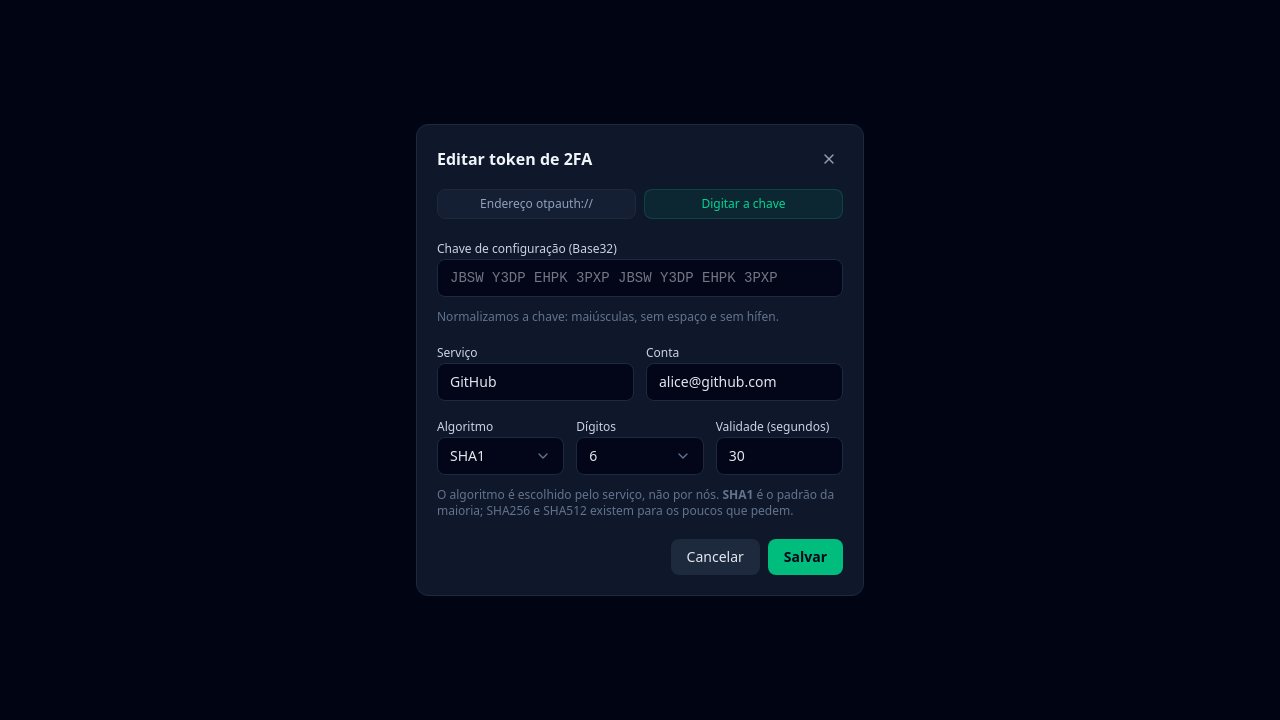
tela do verificador 2FA › valida campos editados e informa falha ao salvar manualmente
Replace the text in the field labelled "Serviço" with "Discord": coordinates (536, 382) [437, 363, 634, 401]
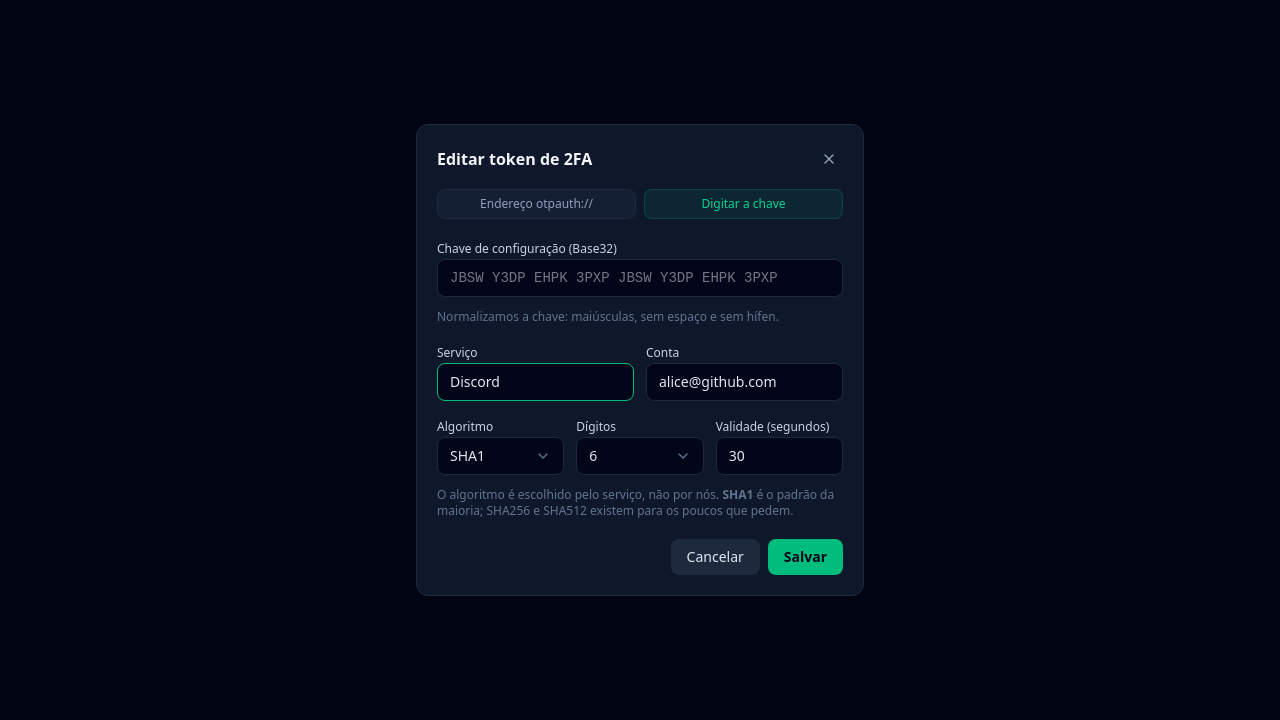
Replace the text in the field labelled "Conta" with "morgan#4321": coordinates (744, 382) [646, 363, 843, 401]
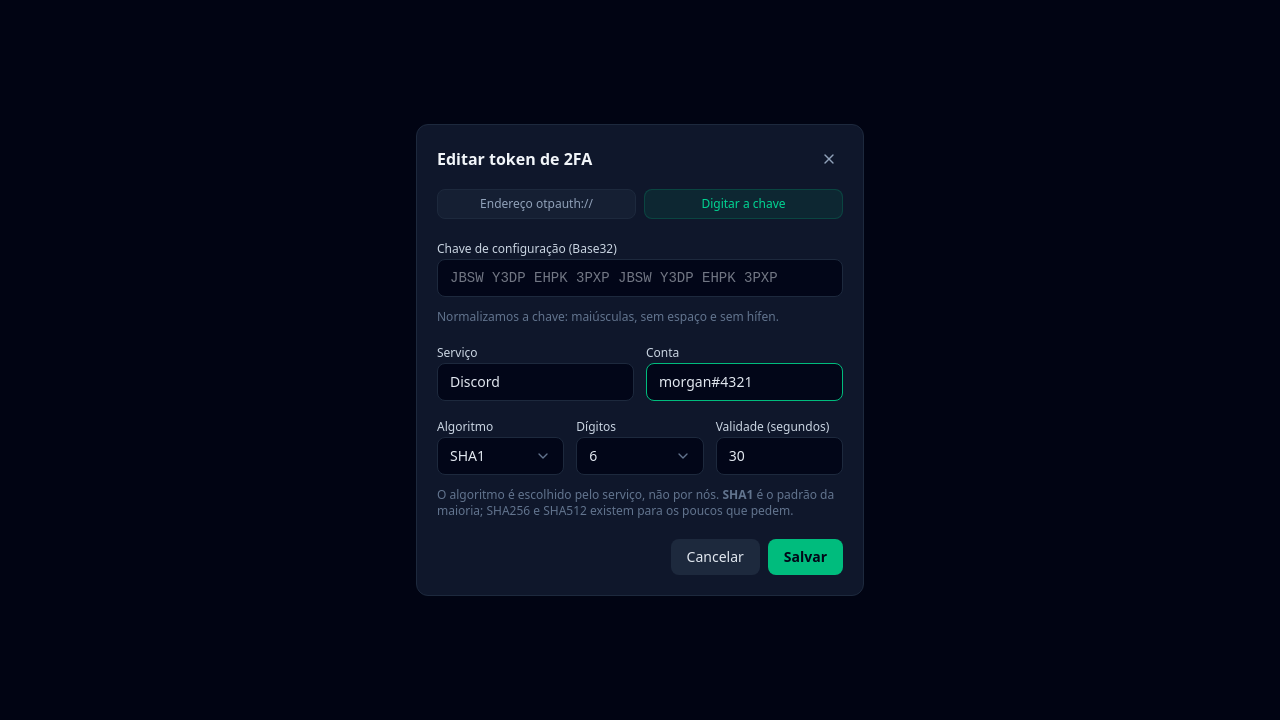
Replace the text in the number field labelled "Validade (segundos)" with "60": coordinates (779, 456) [716, 437, 843, 475]
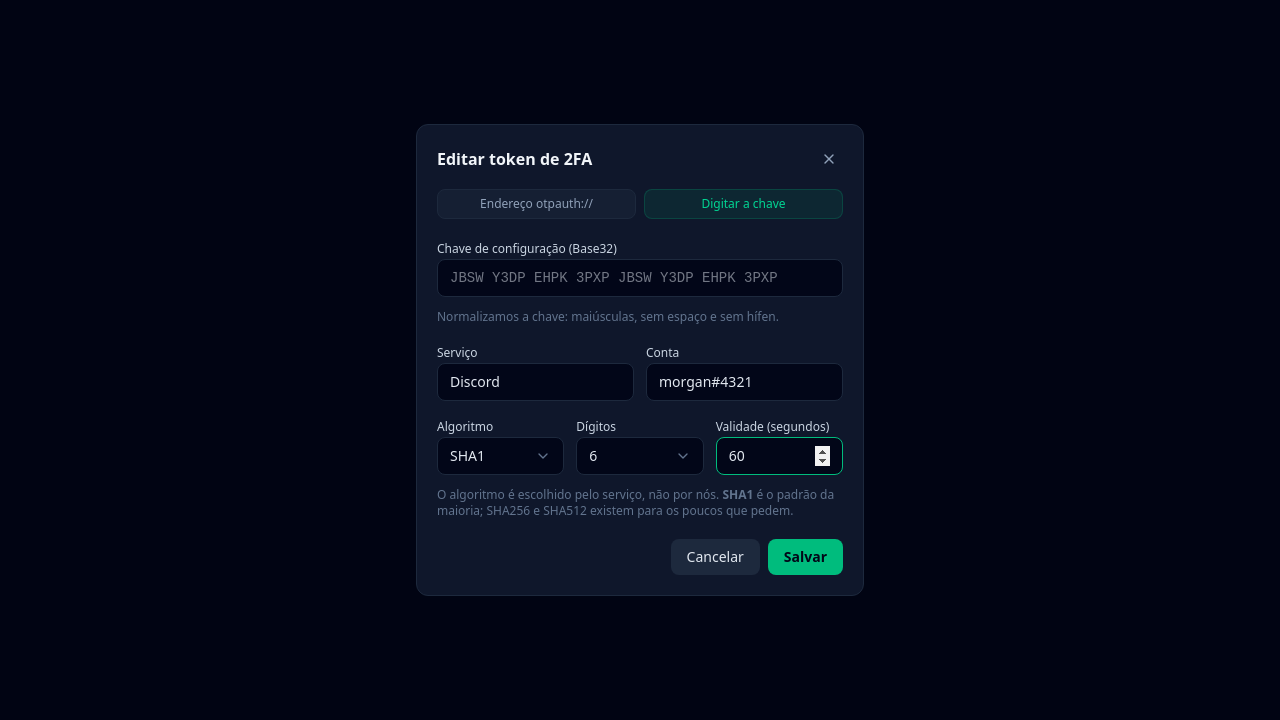
In the field with placeholder "JBSW Y3DP EHPK 3PXP JBSW Y3DP EHPK 3PXP": coordinates (640, 278) [437, 259, 843, 297], type "GEZDGNBVGY3TQOJQGEZDGNBVGY3TQOJQ"
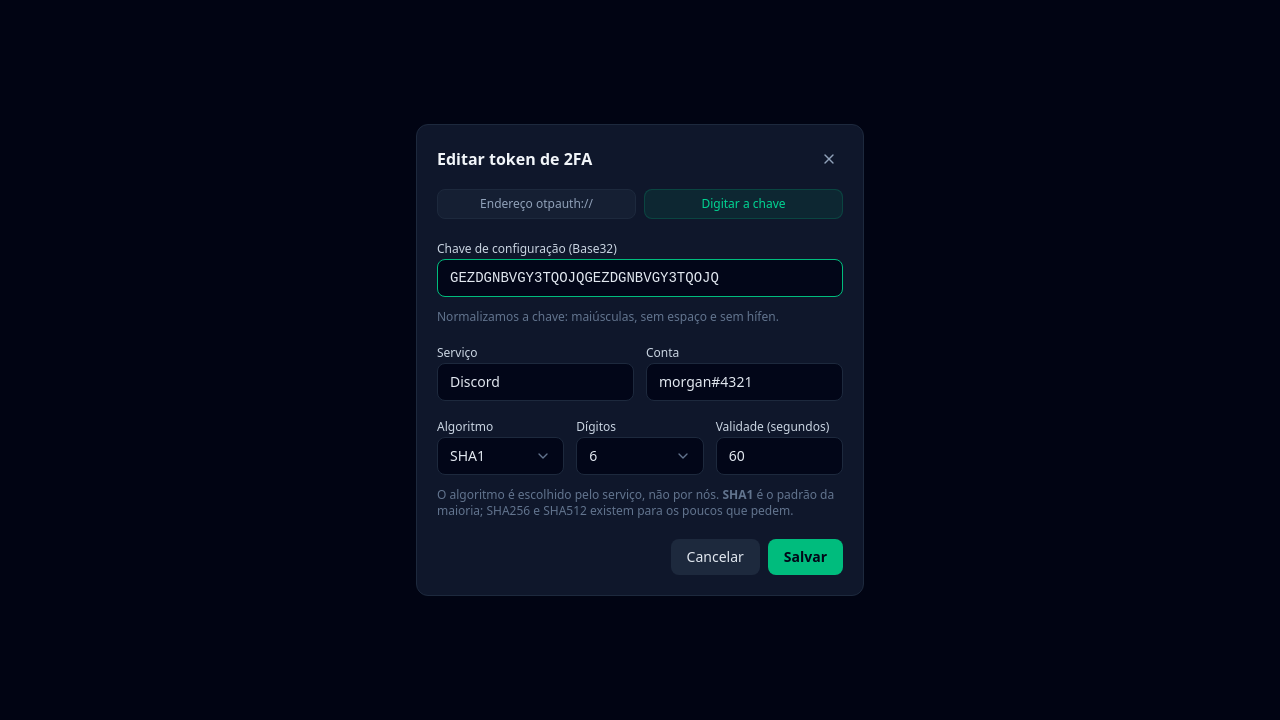
Click the button "Salvar": coordinates (805, 557) [768, 539, 843, 575]
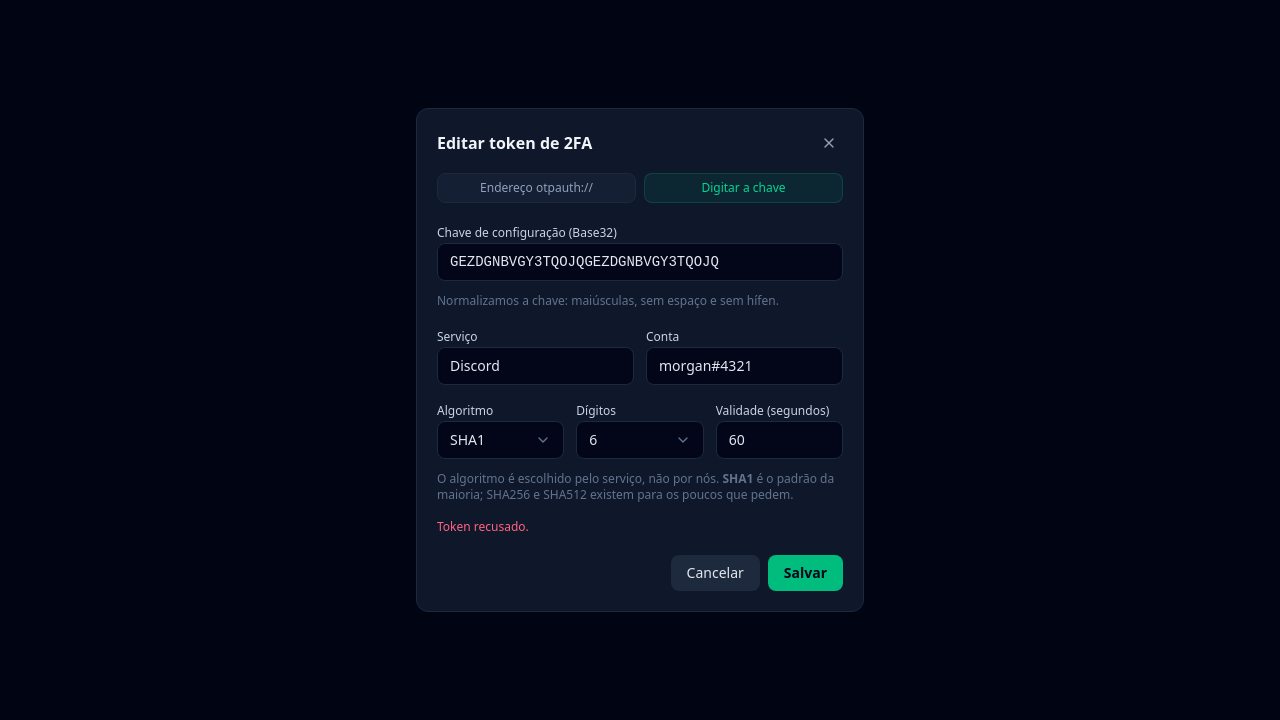
Expected: the text "Token recusado." is shown, [437, 518, 529, 535]
